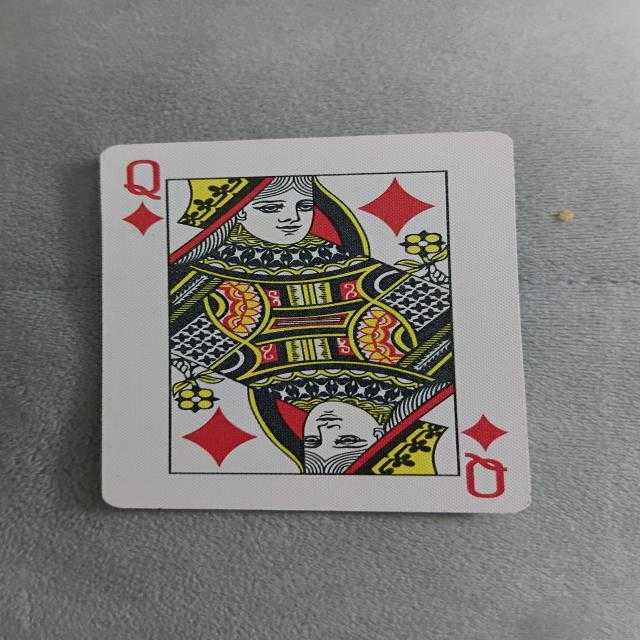QD: (89, 134, 544, 521)
